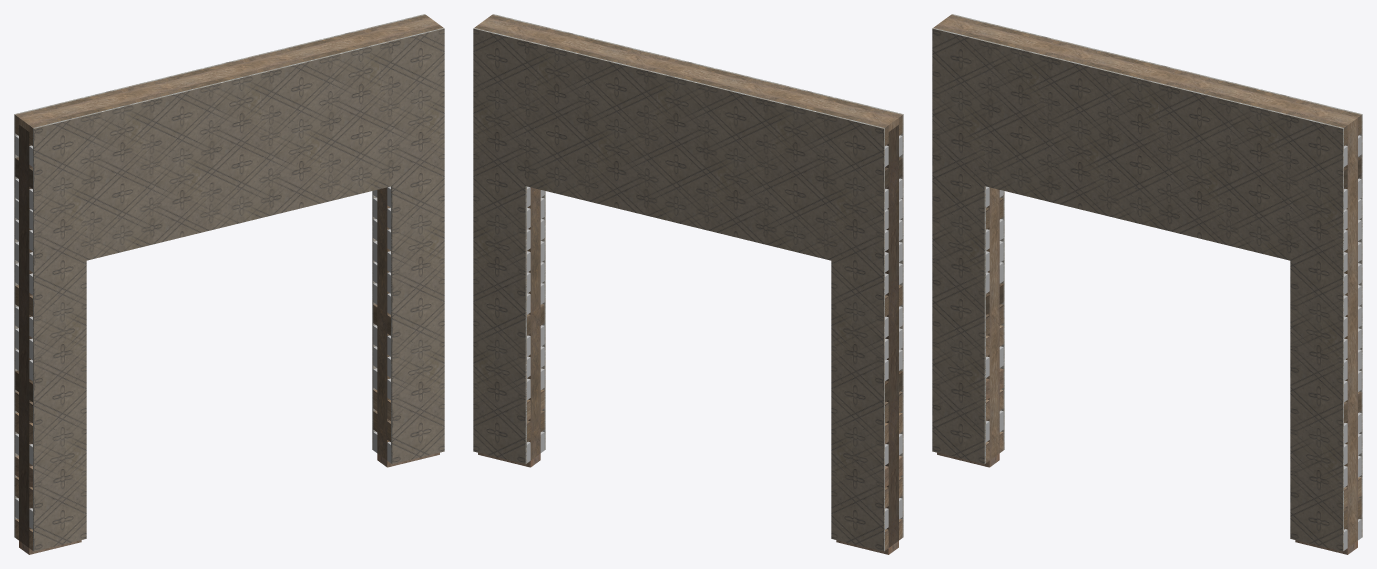
The model's file is WallPeiceDoorwayG.fbx.
The picture shows the model from 3 angles, left to right: view 1: azimuth 30°, elevation 25°; view 2: azimuth 150°, elevation 25°; view 3: azimuth 330°, elevation 25°; orthographic projection.
Parts seen in each view (by area): view 1: WallPeiceDoorwayG; view 2: WallPeiceDoorwayG; view 3: WallPeiceDoorwayG.
Part boxes in pixels (bbox=[...]): WallPeiceDoorwayG: bbox=[14, 14, 444, 554]; WallPeiceDoorwayG: bbox=[473, 14, 903, 554]; WallPeiceDoorwayG: bbox=[932, 14, 1362, 554].
Bounding box in the file's own units: 374 × 374 × 31.37.
